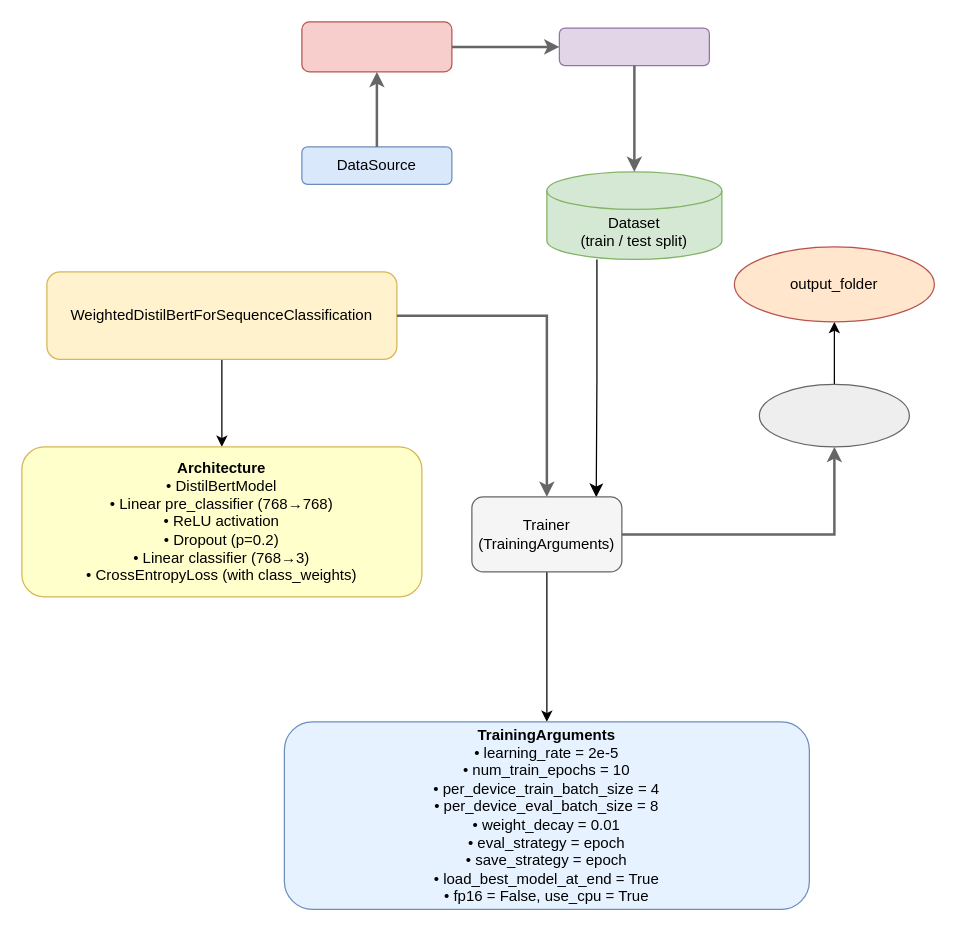
This 956x931 diagram has some shape labels left out. The shapes that lost their labels are listed below. From the top down, each one's centre as x and y in pixels, then its label:
(376,46): Sample (text, label)
(633,46): AugmentedSample
(833,415): MLflowRun (metrics / artifacts)
